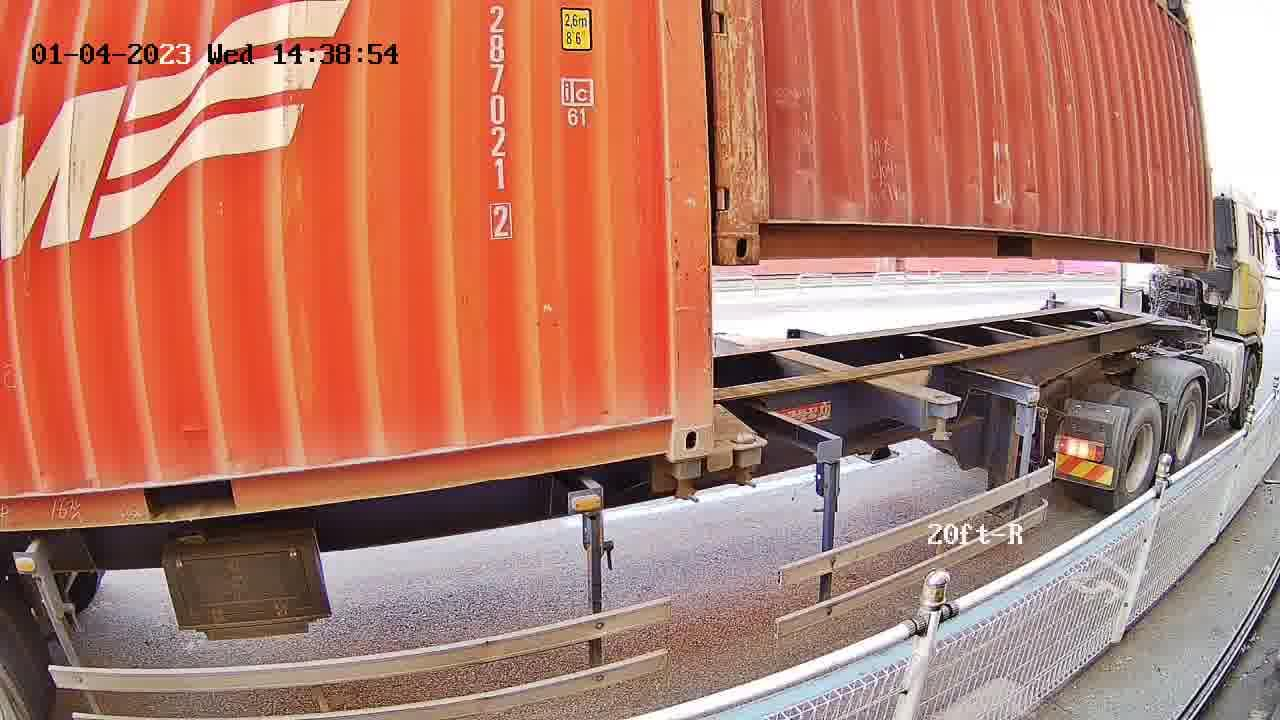Cone: (669, 457, 707, 502), (730, 433, 760, 489)
Hole_L: (720, 189, 800, 266)
Hole_R: (635, 382, 715, 458)
Tire: (1116, 398, 1163, 509), (1168, 381, 1205, 471)
